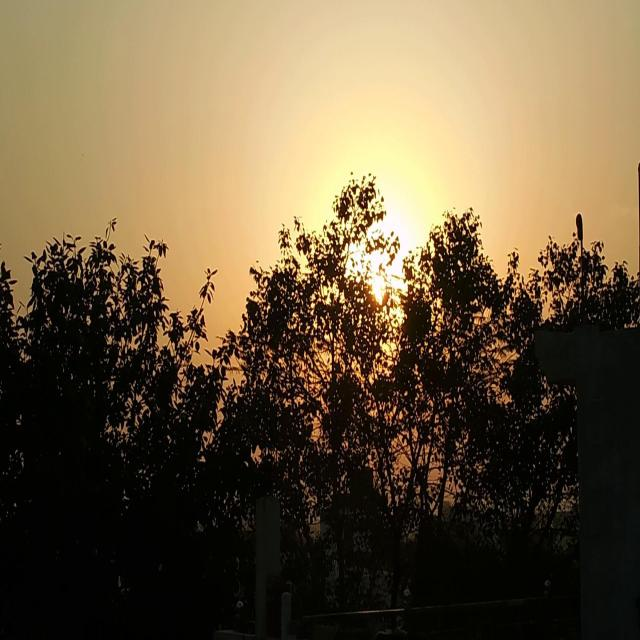other: (297, 103, 470, 380)
